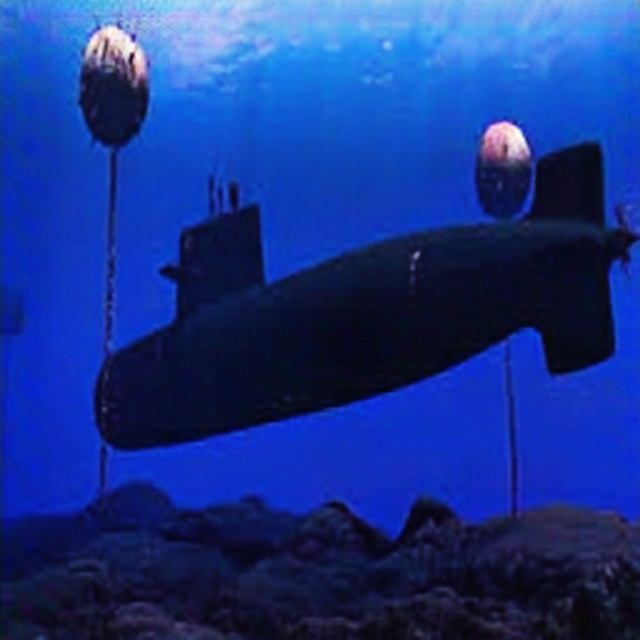submarine: (84, 118, 640, 466)
